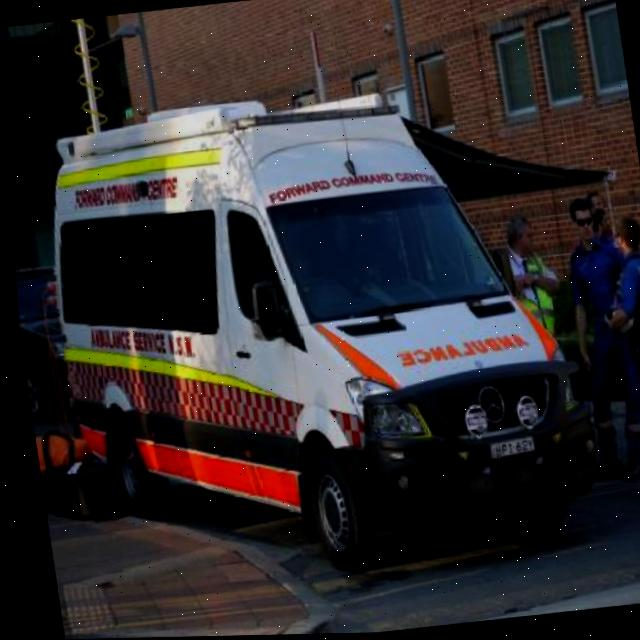emergency: (19, 65, 609, 598)
